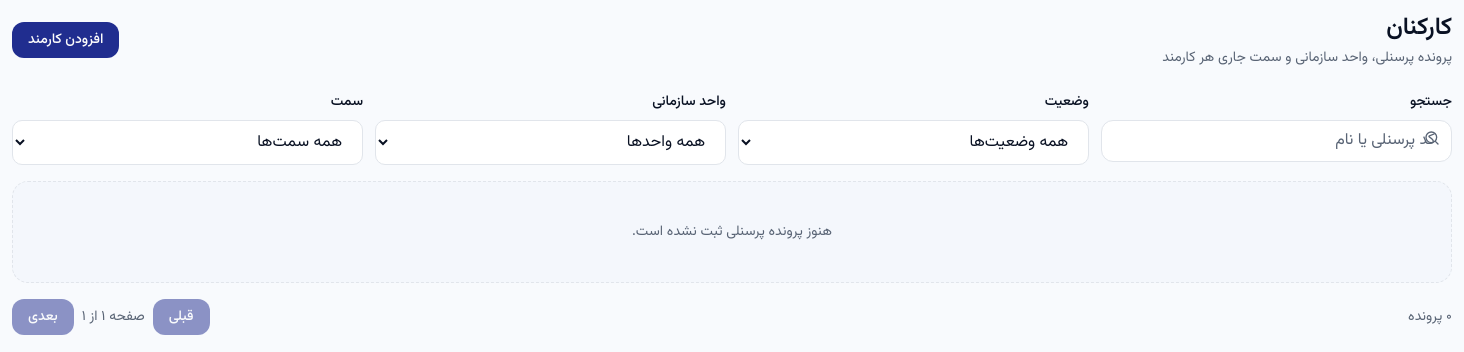
HrEmployeesView › distinguishes an honestly empty tenant from an empty filter result
Expected: the text "هنوز پرونده پرسنلی ثبت نشده است." is shown, [12,181,1452,283]
Select "فعال" in the dropdown with id "hr-employee-status-filter" at (914, 142), box [738,120,1089,165]
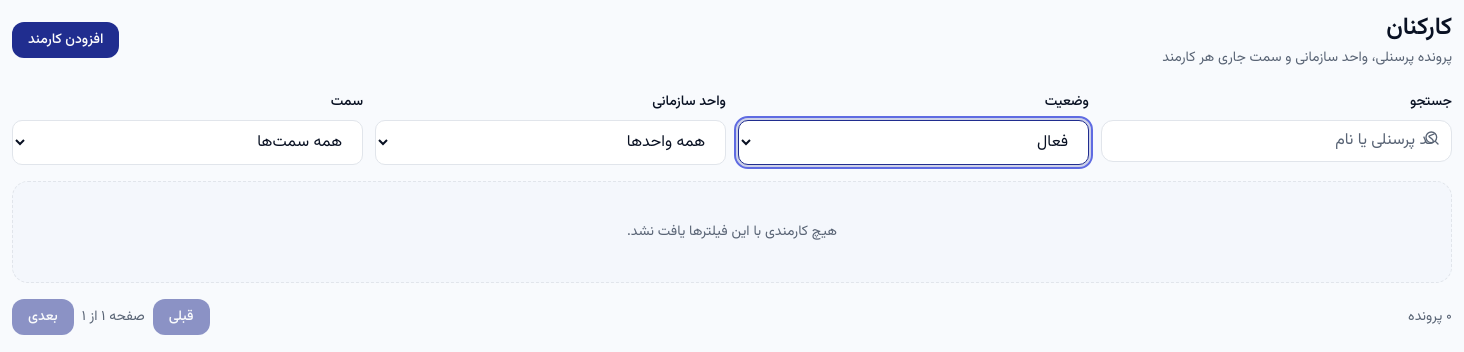
Expected: the text "هیچ کارمندی با این فیلترها یافت نشد." is shown, [12,181,1452,283]
